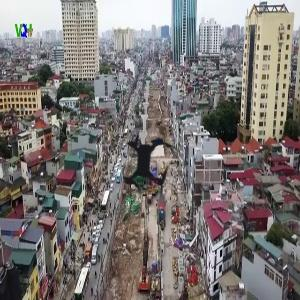drone: (96, 111, 206, 221)
